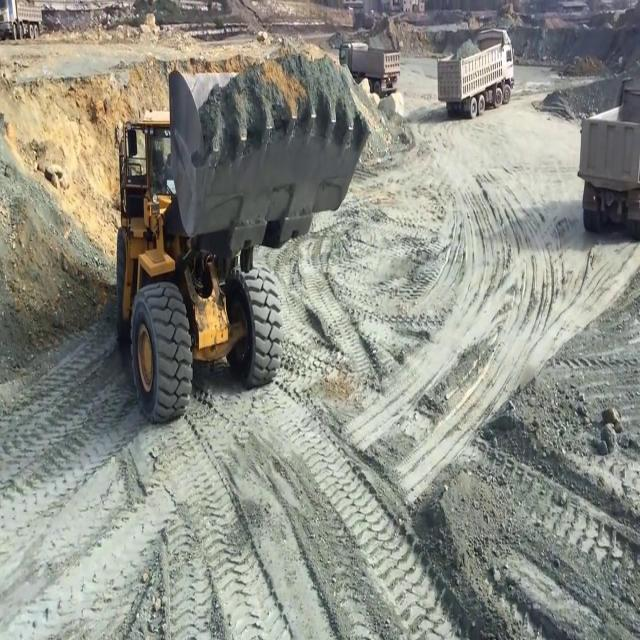buldozerpayloadergrader: (109, 53, 372, 431)
dump_truck: (576, 76, 639, 241), (435, 23, 515, 121), (338, 37, 402, 97), (0, 1, 44, 43)
